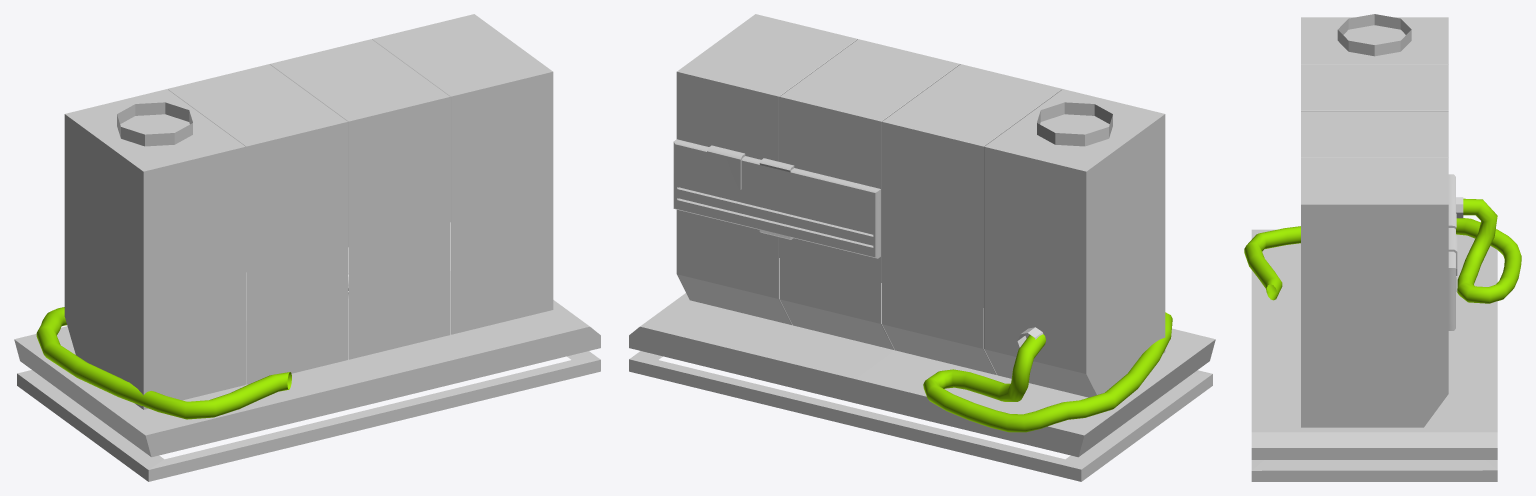
File: Generator_Energy.fbx
3 renders of one model, left to right at view 1: azimuth 30°, elevation 25°; view 2: azimuth 150°, elevation 25°; view 3: azimuth 270°, elevation 25°, orthographic. The views are drawn at different scales.
Visible parts, largest first — view 1: mod_generator, mod_GeneratorPlatform, mod_gen_cable, mod_base_cable.001; view 2: mod_generator, mod_GeneratorPlatform, mod_generator_panel, mod_gen_cable, mod_base_cable.001, mod_gen_detail; view 3: mod_generator, mod_GeneratorPlatform, mod_gen_cable, mod_base_cable.001, mod_generator_panel.
Boxes of the visible parts, x1,y1,x2,y2 form: mod_generator: [64, 14, 553, 409]; mod_GeneratorPlatform: [14, 271, 600, 481]; mod_gen_cable: [36, 307, 291, 419]; mod_base_cable.001: [117, 102, 192, 146]; mod_generator: [676, 14, 1165, 397]; mod_GeneratorPlatform: [629, 258, 1215, 481]; mod_generator_panel: [673, 139, 880, 258]; mod_gen_cable: [923, 312, 1172, 432]; mod_base_cable.001: [1037, 102, 1112, 146]; mod_gen_detail: [707, 145, 745, 191]; mod_generator: [1301, 17, 1448, 427]; mod_GeneratorPlatform: [1251, 229, 1497, 481]; mod_gen_cable: [1244, 198, 1521, 303]; mod_base_cable.001: [1337, 14, 1411, 56]; mod_generator_panel: [1448, 174, 1455, 330].
Bounding box in the file's own units: 401 × 250 × 226.
